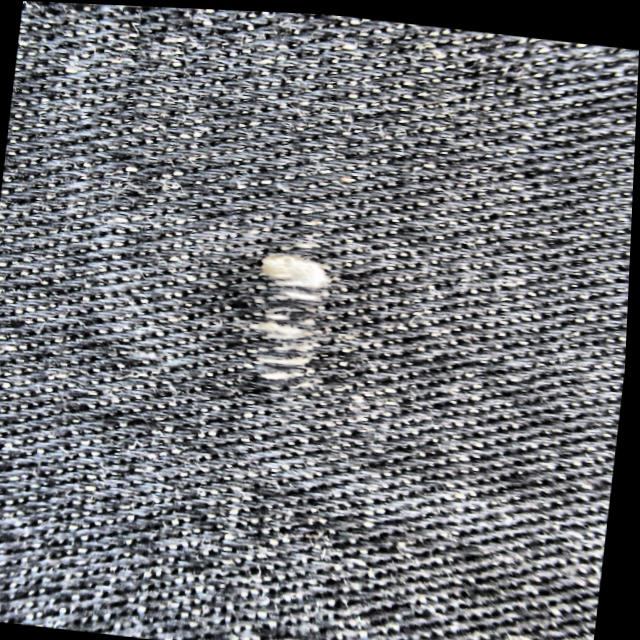Hole: (250, 249, 328, 386)
